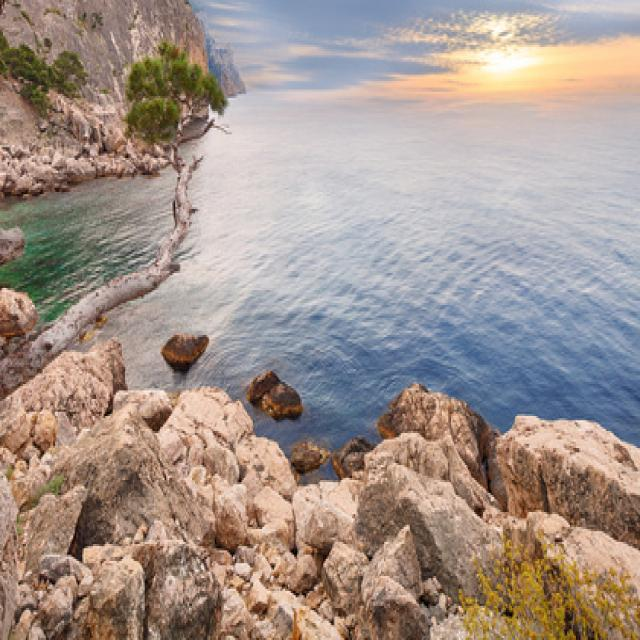reef: (161, 306, 570, 612)
